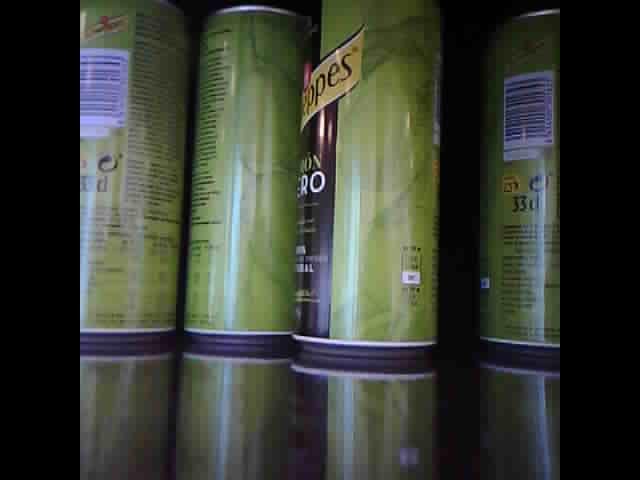schweppes: (291, 7, 444, 358), (179, 2, 296, 348), (80, 4, 185, 346), (477, 8, 559, 353)
